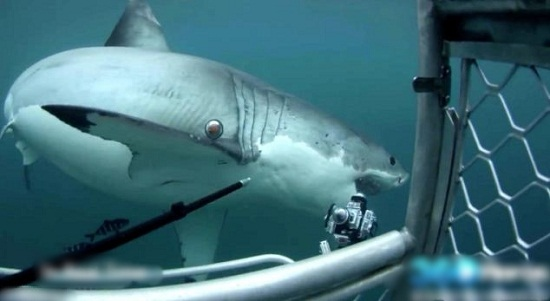shark: (1, 1, 429, 289)
